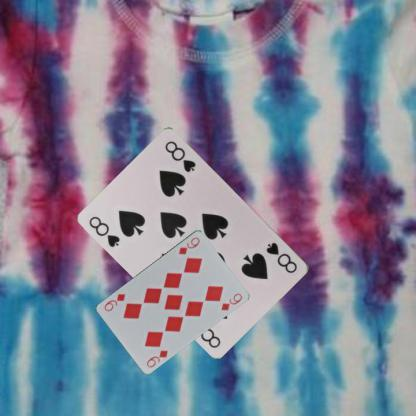8s: (87, 213, 122, 249), (264, 239, 298, 275)
9d: (144, 347, 170, 369), (176, 234, 202, 255)
